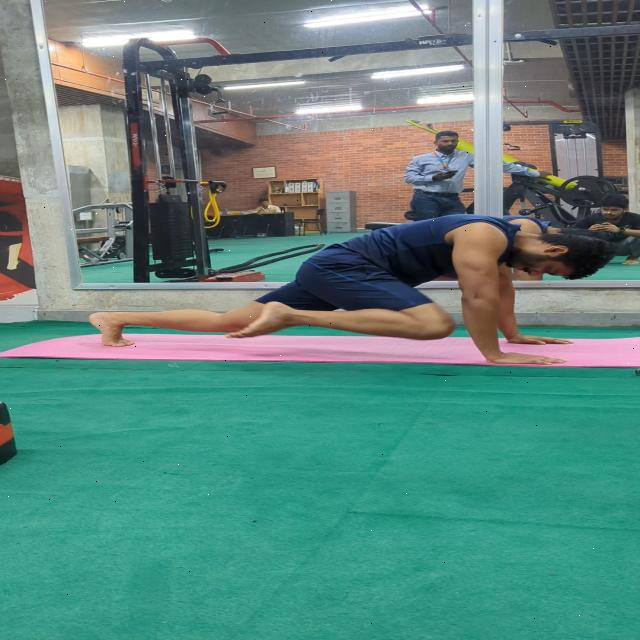Normal_MountainClimbers: (53, 189, 624, 373)
